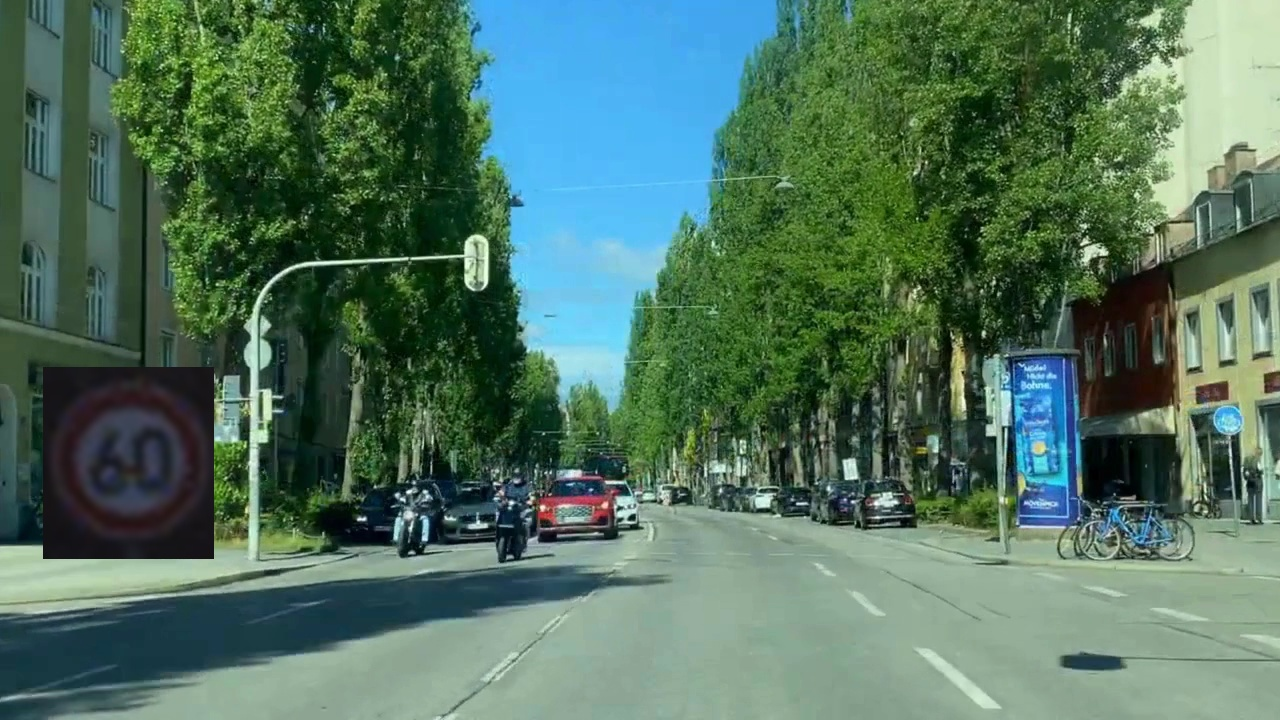Speed 60: (43, 367, 214, 559)
